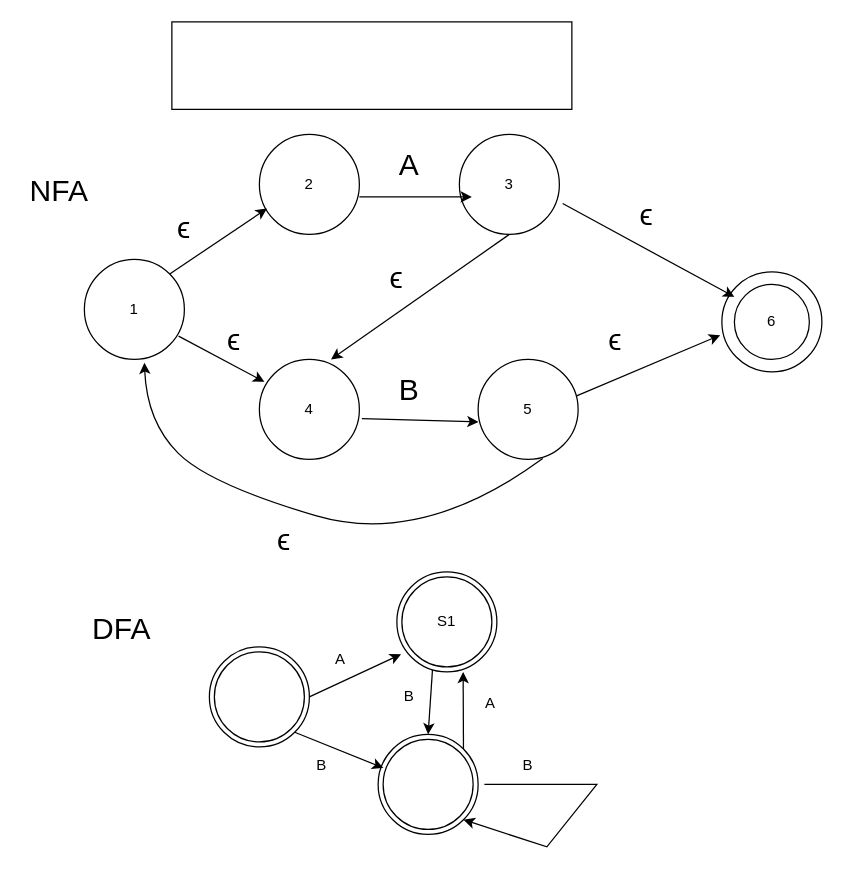
Image size: 844x879. Some labels were removed from this diagram. Here are the shapes that lost their labels. From the top down, the centre of each, then its label:
At (371,65): "Regex: ^a?(b*(ba)*)*$|^(ab)*a?b*$".
At (258,696): "S0".
At (427,783): "S2".
